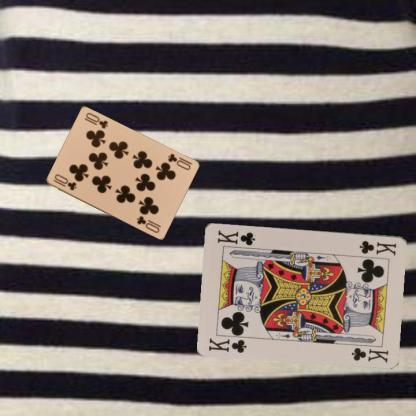10c: (165, 150, 191, 172), (51, 172, 78, 192)
Kc: (356, 238, 398, 257), (206, 334, 248, 353)
